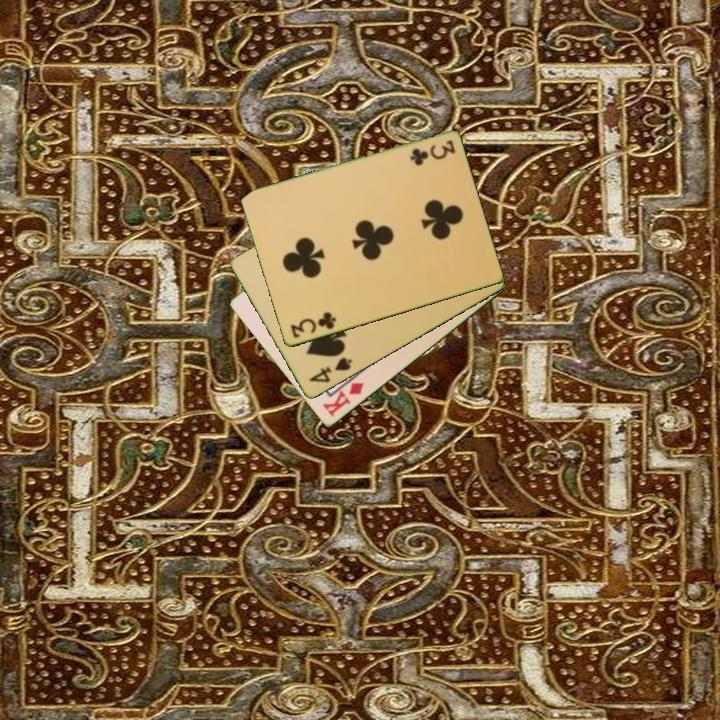3c: (287, 309, 339, 341), (406, 137, 458, 167)
4s: (305, 354, 355, 386)
Kd: (319, 379, 367, 420)
